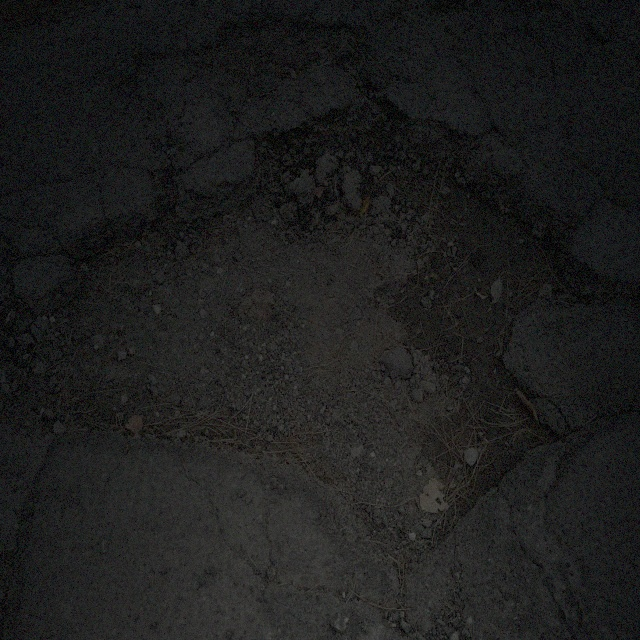pothole: (45, 105, 576, 564)
